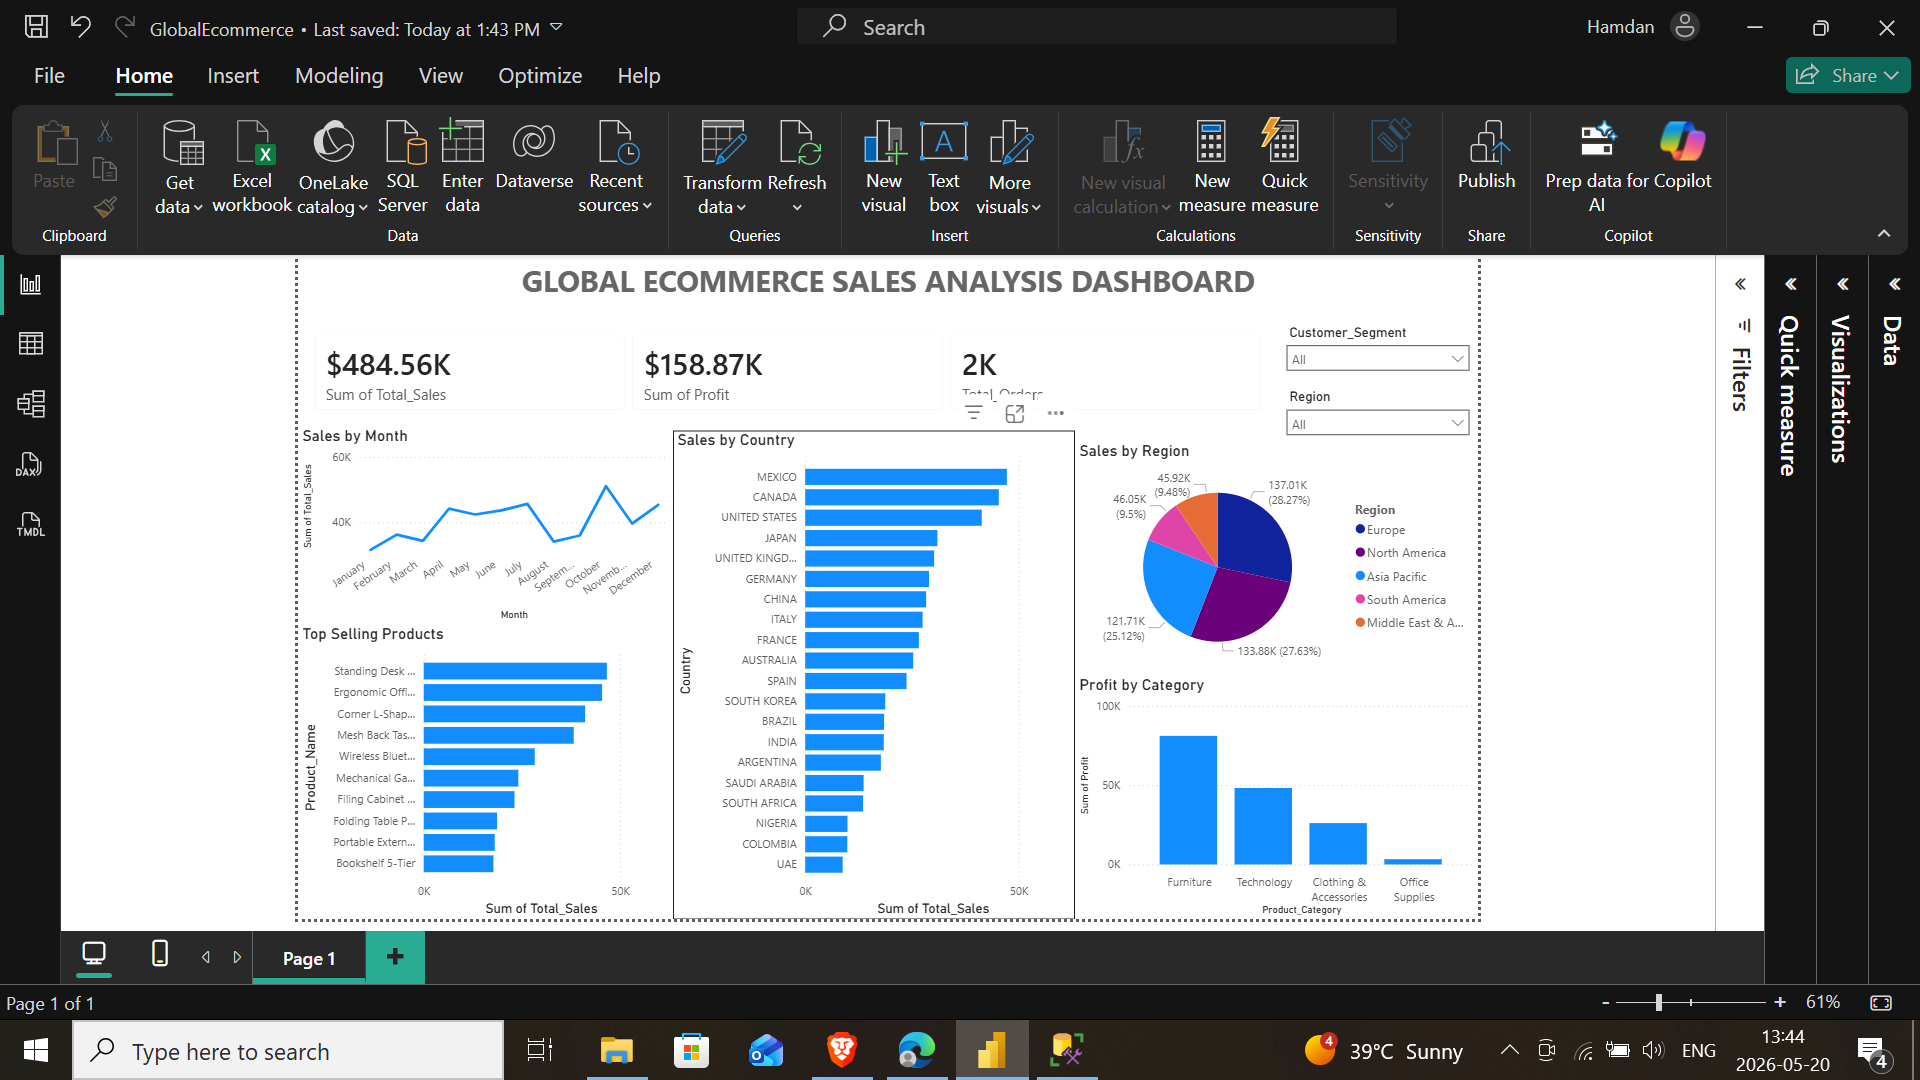

The page's visual inventory and layout, read from the dashboard file:
{"tool":"powerbi","page":{"name":"Page 1Executive Dashboard","canvas":[1280,720],"ordinal":0},"visuals":[{"type":"cardVisual","fields":{"Data":["Sum(Global_sales.Total_Sales)","Sum(Global_sales.Profit)","Global_sales.Total_Orders"]},"box":[0,69.9,1062.1,115.5],"z":0},{"type":"lineChart","title":"Sales by Month","fields":{"Category":["Global_sales.Order_Date.Variation.Date Hierarchy.Month"],"Y":["Sum(Global_sales.Total_Sales)"]},"box":[0,185.4,406.6,214.7],"z":1000},{"type":"clusteredBarChart","title":"Top Selling Products","fields":{"Category":["Global_sales.Product_Name"],"Y":["Sum(Global_sales.Total_Sales)"]},"box":[0,400.1,406.6,320.4],"z":2000},{"type":"barChart","title":"Sales by Country","fields":{"Y":["Sum(Global_sales.Total_Sales)"],"Category":["Global_sales.Country"]},"box":[406.6,190.3,435.9,530.3],"z":3000},{"type":"columnChart","title":"Profit by Category","fields":{"Category":["Global_sales.Product_Category"],"Y":["Sum(Global_sales.Profit)"]},"box":[842.5,455.4,437.5,265.1],"z":4000},{"type":"slicer","fields":{"Values":["Global_sales.Region"]},"box":[1062.1,139.9,218,61.8],"z":5000},{"type":"slicer","fields":{"Values":["Global_sales.Customer_Segment"]},"box":[1062.1,69.9,218,69.9],"z":6000},{"type":"pieChart","title":"Sales by Region","fields":{"Category":["Global_sales.Region"],"Y":["Sum(Global_sales.Total_Sales)"]},"box":[842.5,201.7,437.5,253.7],"z":7000},{"type":"textbox","box":[0,0,1280.1,69.9],"z":8000}]}

Visuals, with their boxes on the page's 1280x720 design canvas (x1, y1, x2, y2). These are canvas units, not pixel positions in the 1920x1080 screenshot, which may show the page scaled, cropped or inside an application window:
cardVisual - Sum(Global_sales.Total_Sales) x Sum(Global_sales.Profit): {"x1": 0, "y1": 70, "x2": 1062, "y2": 185}
"Sales by Month" lineChart: {"x1": 0, "y1": 185, "x2": 407, "y2": 400}
"Top Selling Products" clusteredBarChart: {"x1": 0, "y1": 400, "x2": 407, "y2": 720}
"Sales by Country" barChart: {"x1": 407, "y1": 190, "x2": 842, "y2": 721}
"Profit by Category" columnChart: {"x1": 842, "y1": 455, "x2": 1280, "y2": 720}
slicer - Global_sales.Region: {"x1": 1062, "y1": 140, "x2": 1280, "y2": 202}
slicer - Global_sales.Customer_Segment: {"x1": 1062, "y1": 70, "x2": 1280, "y2": 140}
"Sales by Region" pieChart: {"x1": 842, "y1": 202, "x2": 1280, "y2": 455}
textbox: {"x1": 0, "y1": 0, "x2": 1280, "y2": 70}
